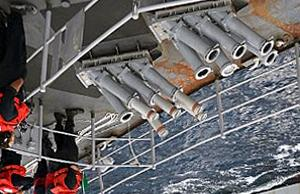rust: (250, 2, 299, 38), (167, 52, 213, 88)
